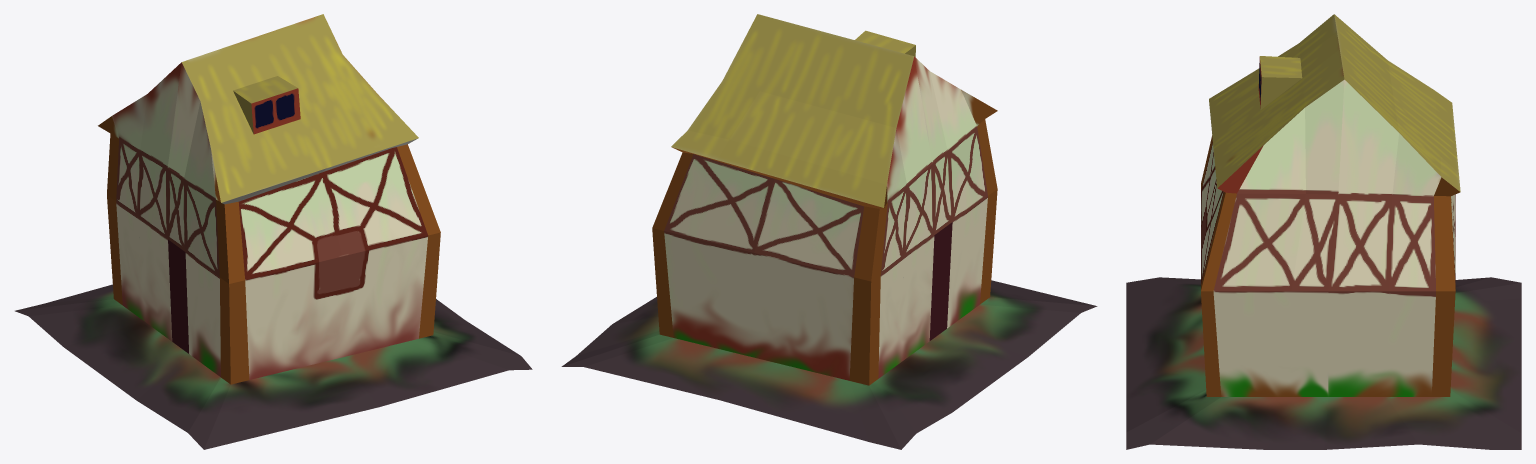
Rendered from House2.fbx.
3 views of the same model, side by side, from view 1: azimuth 30°, elevation 25°; view 2: azimuth 150°, elevation 25°; view 3: azimuth 270°, elevation 25° (orthographic). The views are drawn at different scales.
Parts seen in each view (by area): view 1: House1; view 2: House1; view 3: House1.
Part boxes in pixels (left/top/right/bottom): House1: left=15, top=14, right=532, bottom=449; House1: left=561, top=14, right=1097, bottom=449; House1: left=1126, top=14, right=1521, bottom=449.
Size of the model in its own units: 325 by 287 by 325.
